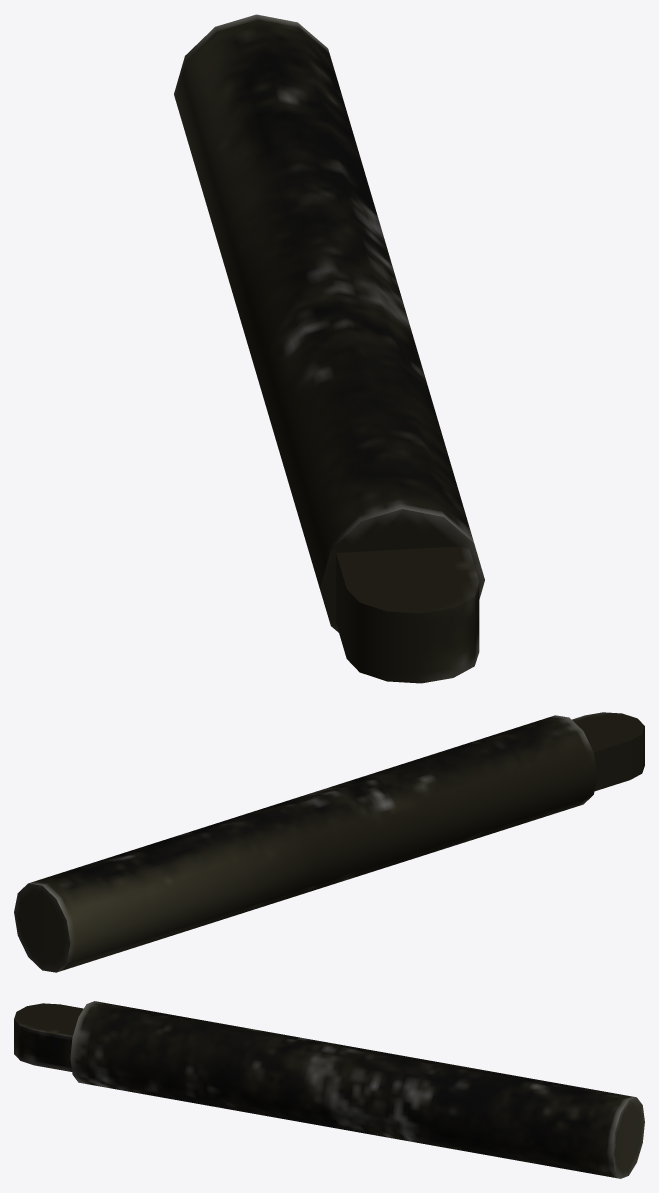
Rendered from bucket_cyl_barrel.obj.
3 renders of one model, top to bottom at view 1: azimuth 30°, elevation 25°; view 2: azimuth 150°, elevation 25°; view 3: azimuth 270°, elevation 25°, orthographic. The views are drawn at different scales.
Parts seen in each view (by area): view 1: Piston.010; view 2: Piston.010; view 3: Piston.010.
Boxes of the visible parts, x1,y1,x2,y2 form: Piston.010: [174, 14, 484, 683]; Piston.010: [14, 712, 644, 972]; Piston.010: [14, 1001, 644, 1178].
Bounding box in the file's own units: 0.3269 × 0.0865 × 0.6508.
Materials: 1 (1 with a texture image).
